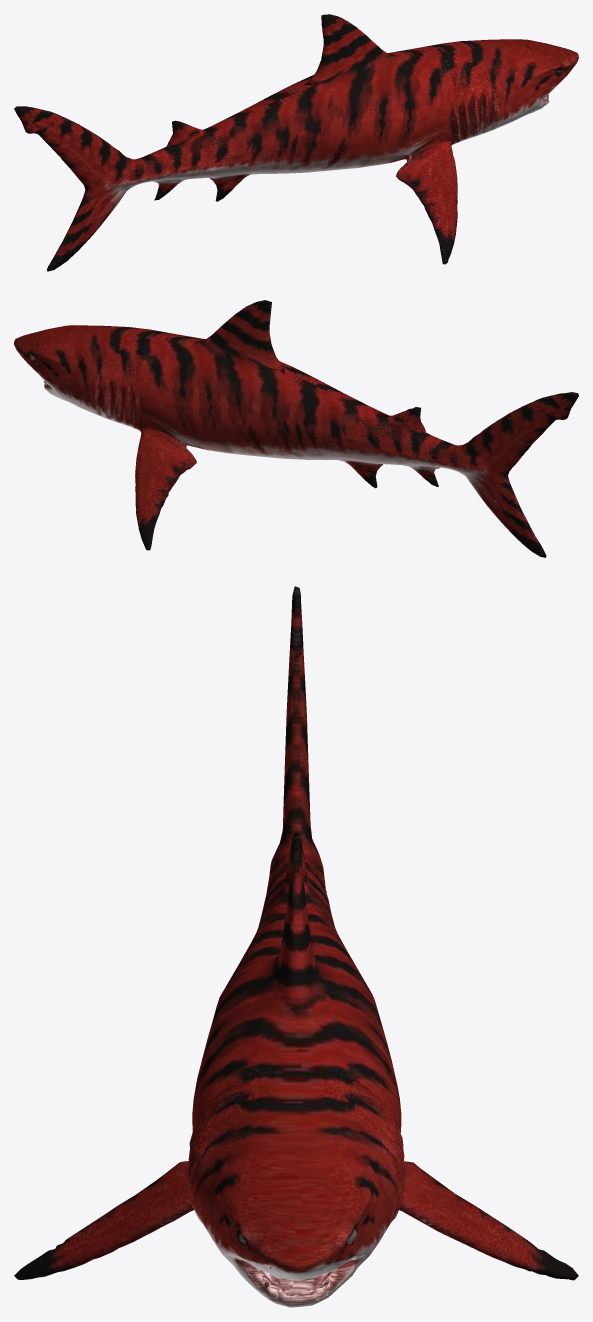
File: redshark.glb
The picture shows the model from 3 angles, top to bottom: view 1: azimuth 30°, elevation 25°; view 2: azimuth 150°, elevation 25°; view 3: azimuth 270°, elevation 25°; orthographic projection. The views are drawn at different scales.
Visible parts, largest first — view 1: redshark; view 2: redshark; view 3: redshark.
Boxes of the visible parts, left/top/right/bottom form: redshark: left=14, top=14, right=578, bottom=271; redshark: left=14, top=300, right=578, bottom=557; redshark: left=14, top=586, right=578, bottom=1307.
Size of the model in its own units: 2 by 0.7021 by 0.9124.
1 material, 1 textured.
